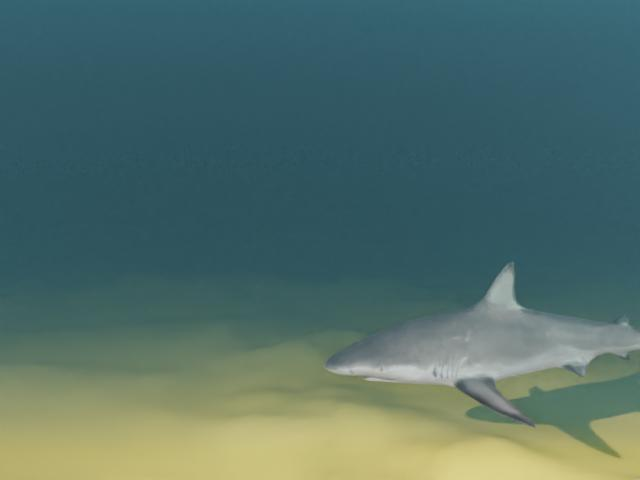Carribean Shark.001: (323, 261, 640, 427)
